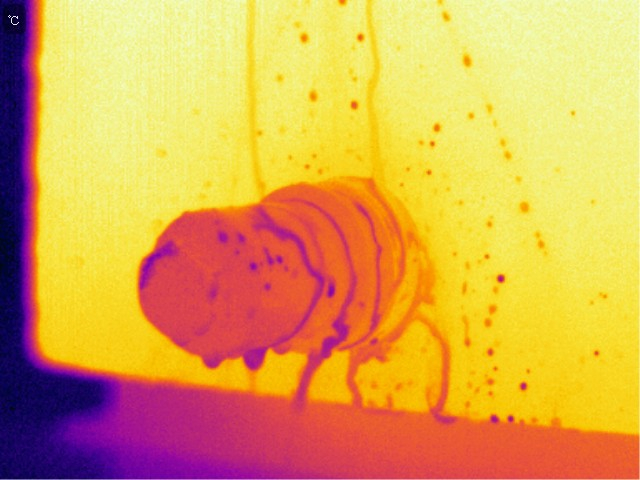Water: (357, 191, 452, 347), (288, 309, 349, 429), (248, 200, 305, 242), (295, 231, 323, 308), (242, 345, 273, 371), (263, 245, 287, 267), (199, 352, 225, 371), (326, 274, 341, 303), (493, 270, 516, 288), (501, 408, 518, 427), (216, 227, 232, 245), (489, 411, 504, 427), (518, 379, 535, 393)
